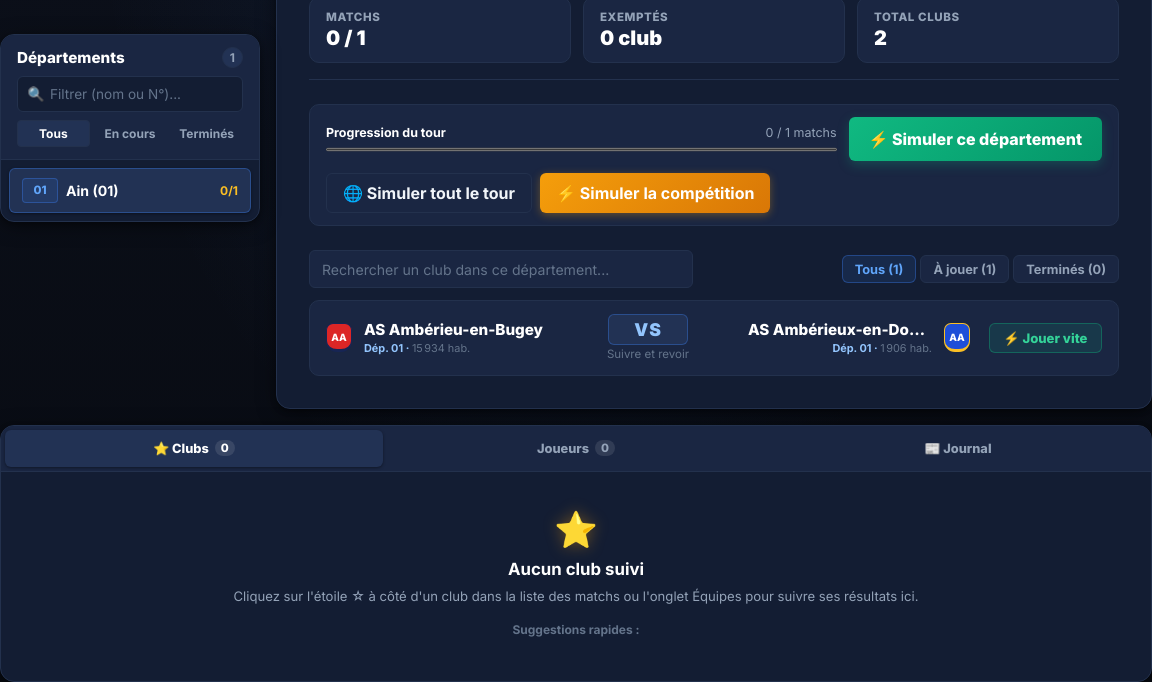
Test: CupPage › does not crown the winner of a single departmental match when other clubs have byes
(page scrolled)
Click the button "⚡ Jouer vite".
click(1045, 338)  # box left=989, top=322, right=1102, bottom=353
(page scrolled)
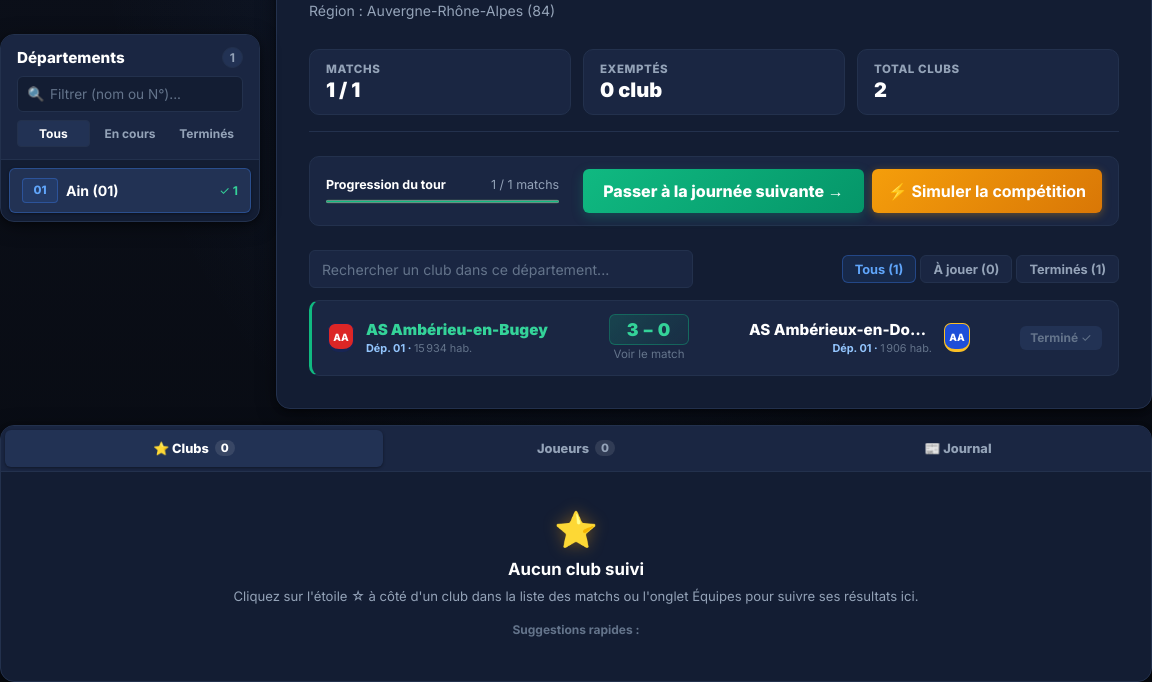
Expected: the button "Passer à la journée suivante →" is shown, left=583, top=169, right=864, bottom=213
